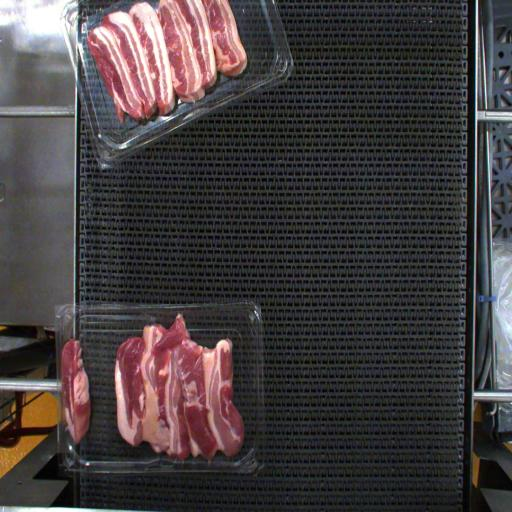loose-meat: (57, 331, 114, 448)
